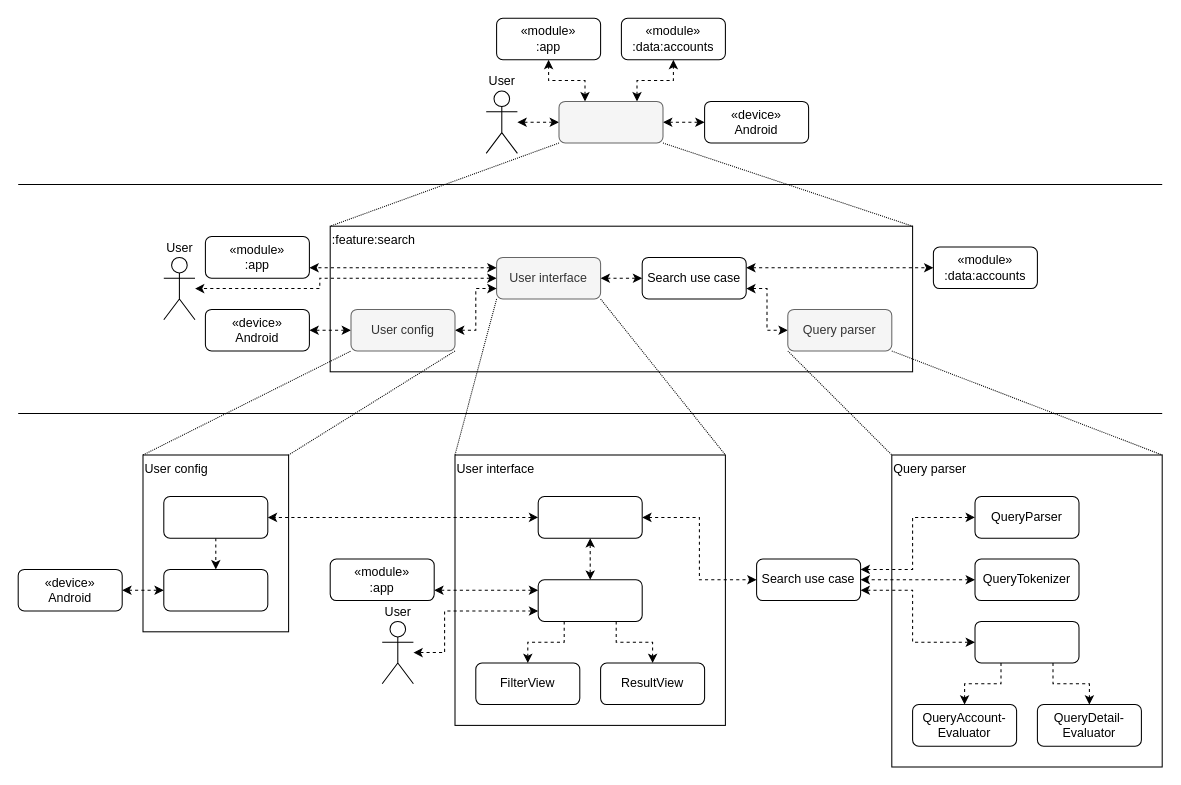
The diagram is 1181 pixels wide and 785 high, and some of its shapes have lost their labels. Here are the shapes that lost their labels. From the top down, the centre of each, then its label:
At point (610, 121): "«module» :feature:search".
At point (215, 517): "«interface» Repository".
At point (589, 517): "SearchViewModel".
At point (215, 589): "Concrete repository".
At point (589, 600): "SearchScreen".
At point (1026, 641): "«interface» QueryEvaluator".
